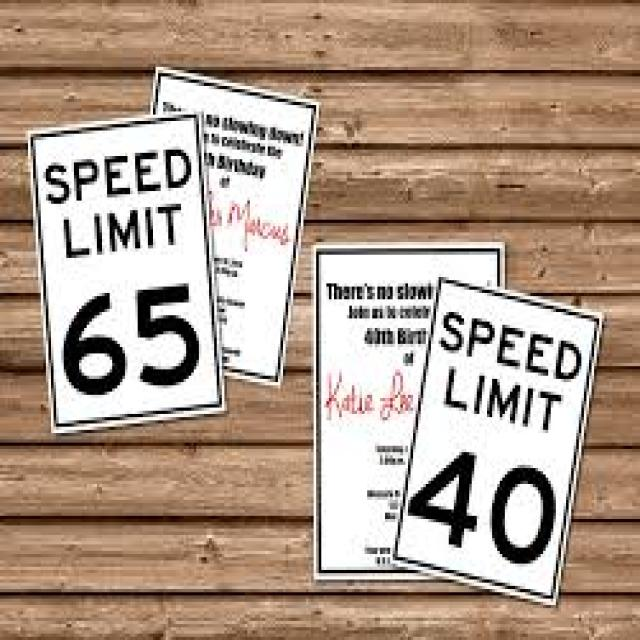speedLimit40: (416, 275, 587, 610)
speedLimit65: (28, 120, 224, 432)
